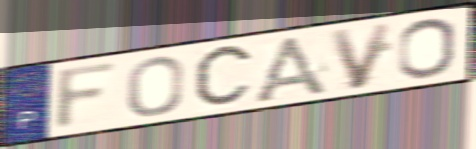A: (248, 32, 332, 103)
C: (191, 40, 257, 113)
F: (51, 58, 123, 134)
O: (124, 54, 187, 118), (396, 16, 458, 81)
V: (326, 19, 396, 92)
